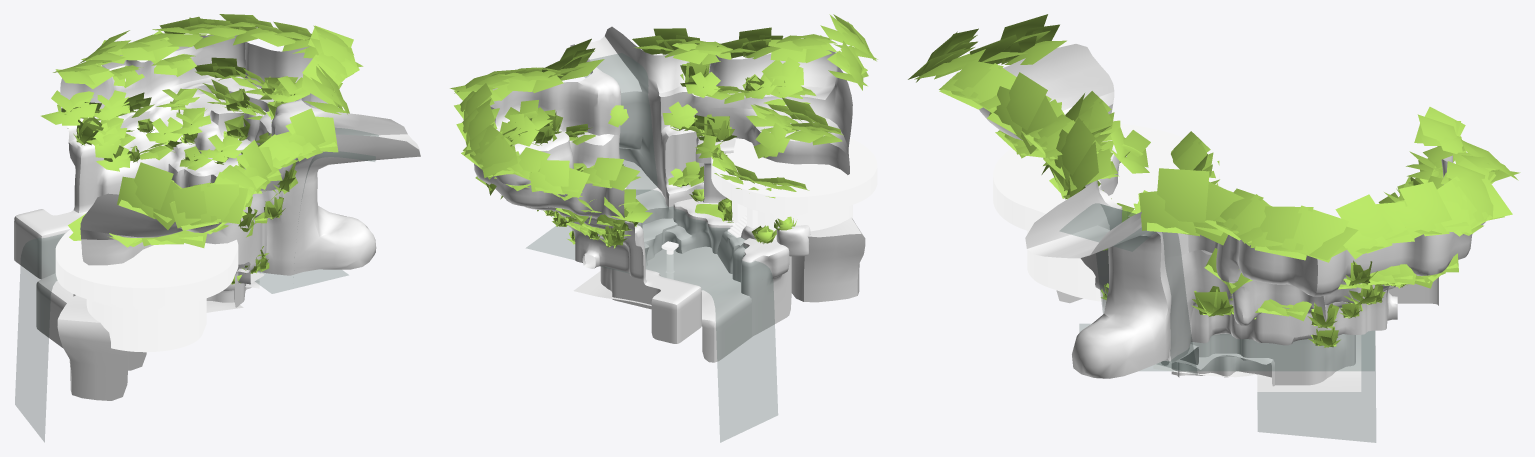
Rendered from ravine.glb.
3 views of the same model, side by side, from view 1: azimuth 30°, elevation 25°; view 2: azimuth 150°, elevation 25°; view 3: azimuth 270°, elevation 25° (orthographic). The views are drawn at different scales.
Visible parts, largest first — view 1: Terrain, Temple, Waterfall, Plane.057, Plane.058, Plane.042, Plane.039, Plane.031, Tree.015, Plane.041, Plane.030, Plane.055 (+27 smaller); view 2: Terrain, Waterfall, Temple, Plane.039, Plane.040, Plane.056, Plane.028, Plane.041, Plane.055, Plane.042, Plane.029, Tree.020 (+24 smaller); view 3: Terrain, Waterfall, Temple, Plane.041, Plane.031, Plane.055, Plane.038, Plane.037, Plane.042, Plane.058, Plane.056, Plane.039 (+12 smaller).
Part boxes in pixels (bbox=[...]): Terrain: bbox=[14, 35, 420, 400]; Temple: bbox=[55, 229, 238, 352]; Waterfall: bbox=[15, 128, 378, 441]; Plane.057: bbox=[169, 182, 248, 230]; Plane.058: bbox=[117, 162, 181, 229]; Plane.042: bbox=[285, 108, 338, 161]; Plane.039: bbox=[152, 16, 236, 49]; Plane.031: bbox=[303, 25, 363, 69]; Tree.015: bbox=[41, 90, 97, 128]; Plane.041: bbox=[302, 64, 349, 114]; Plane.030: bbox=[120, 30, 179, 63]; Plane.055: bbox=[235, 140, 282, 193]; Terrain: bbox=[474, 26, 865, 362]; Waterfall: bbox=[526, 53, 777, 442]; Temple: bbox=[711, 138, 877, 239]; Plane.039: bbox=[461, 125, 519, 179]; Plane.040: bbox=[529, 160, 589, 197]; Plane.056: bbox=[768, 34, 836, 62]; Plane.028: bbox=[583, 157, 640, 190]; Plane.041: bbox=[542, 38, 604, 80]; Plane.055: bbox=[717, 27, 783, 59]; Plane.042: bbox=[632, 28, 699, 57]; Plane.029: bbox=[498, 67, 563, 92]; Tree.020: bbox=[762, 57, 803, 97]; Terrain: bbox=[979, 44, 1485, 391]; Waterfall: bbox=[1060, 203, 1375, 442]; Temple: bbox=[993, 124, 1219, 301]; Plane.041: bbox=[1139, 168, 1244, 245]; Plane.031: bbox=[1250, 205, 1358, 262]; Plane.055: bbox=[987, 72, 1065, 154]; Plane.038: bbox=[1335, 194, 1414, 259]; Plane.037: bbox=[1395, 181, 1471, 238]; Plane.042: bbox=[1043, 117, 1111, 197]; Plane.058: bbox=[970, 14, 1066, 64]; Plane.056: bbox=[939, 60, 1016, 113]; Plane.039: bbox=[1437, 174, 1512, 236].
Bounding box in the file's own units: 106 × 90.53 × 118.
